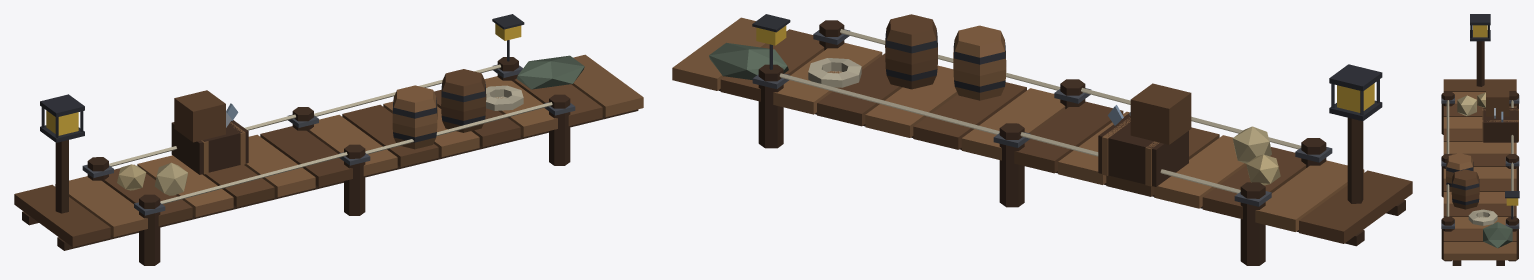
Rendered from Decor_VikingLonghouse_Jetty.fbx.
The picture shows the model from 3 angles, left to right: view 1: azimuth 30°, elevation 25°; view 2: azimuth 150°, elevation 25°; view 3: azimuth 270°, elevation 25°; orthographic projection. The views are drawn at different scales.
Visible parts, largest first — view 1: Jetty_Body; view 2: Jetty_Body; view 3: Jetty_Body.
Boxes of the visible parts, x1,y1,x2,y2 form: Jetty_Body: (14,14,643,265); Jetty_Body: (672,14,1412,265); Jetty_Body: (1441,14,1519,265).
Size of the model in its own units: 28 by 7.2 by 5.3.
